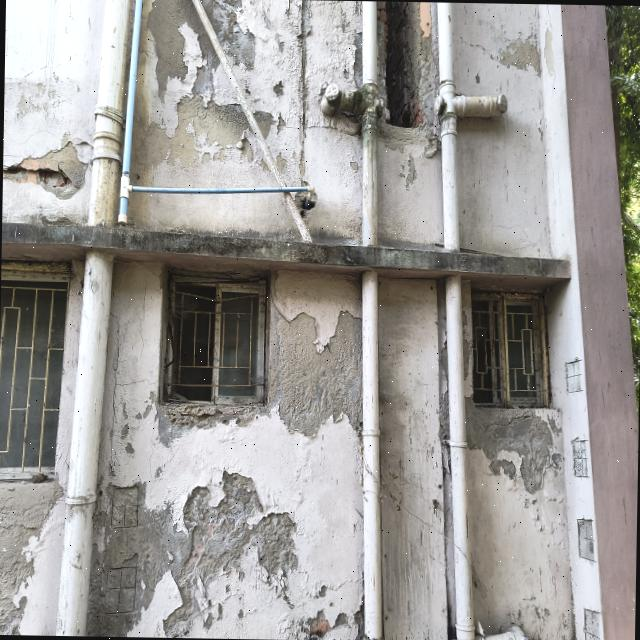peeling: (85, 464, 294, 635), (149, 302, 360, 446), (126, 0, 291, 177), (463, 274, 564, 493), (273, 0, 375, 167), (0, 483, 64, 633), (454, 10, 568, 90), (430, 272, 452, 640), (9, 114, 93, 208), (280, 574, 366, 638)
stain_mould: (1, 229, 576, 282)
